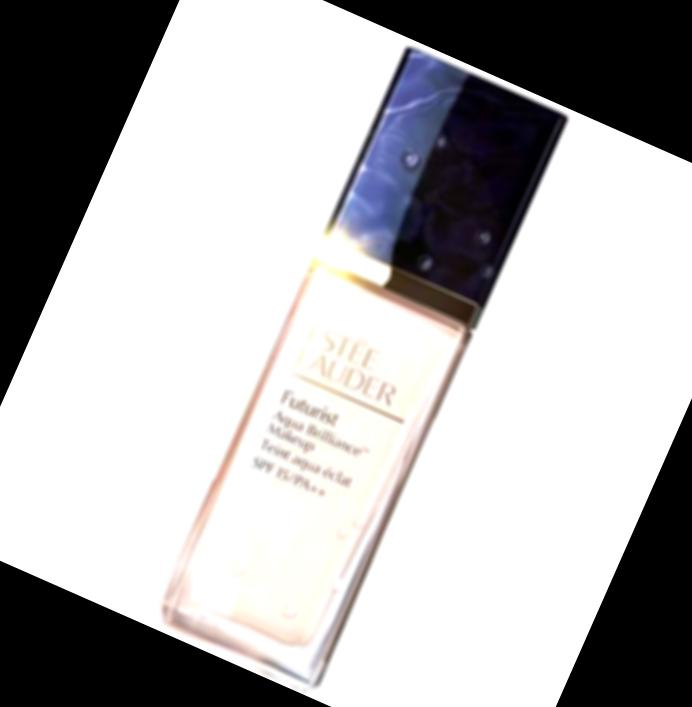cosmetic: (149, 43, 573, 696)
